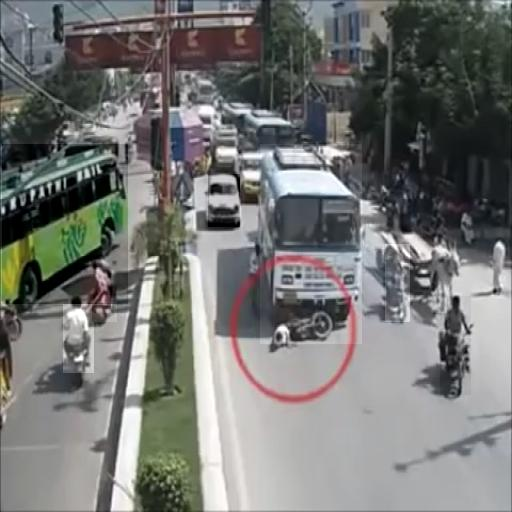小汽车: (2, 144, 128, 304), (208, 174, 240, 227)
小汽车撞自行车: (260, 144, 362, 344)
自行车: (440, 296, 471, 395), (63, 299, 94, 373), (385, 244, 410, 322), (92, 254, 117, 322)
